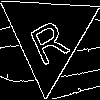R: (23, 10, 71, 67)
